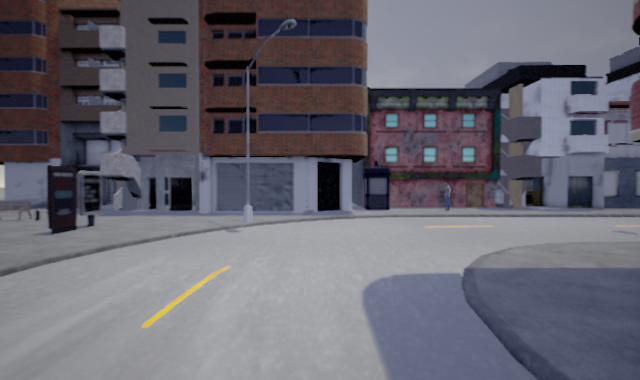pedestrian: (440, 180, 455, 210)
